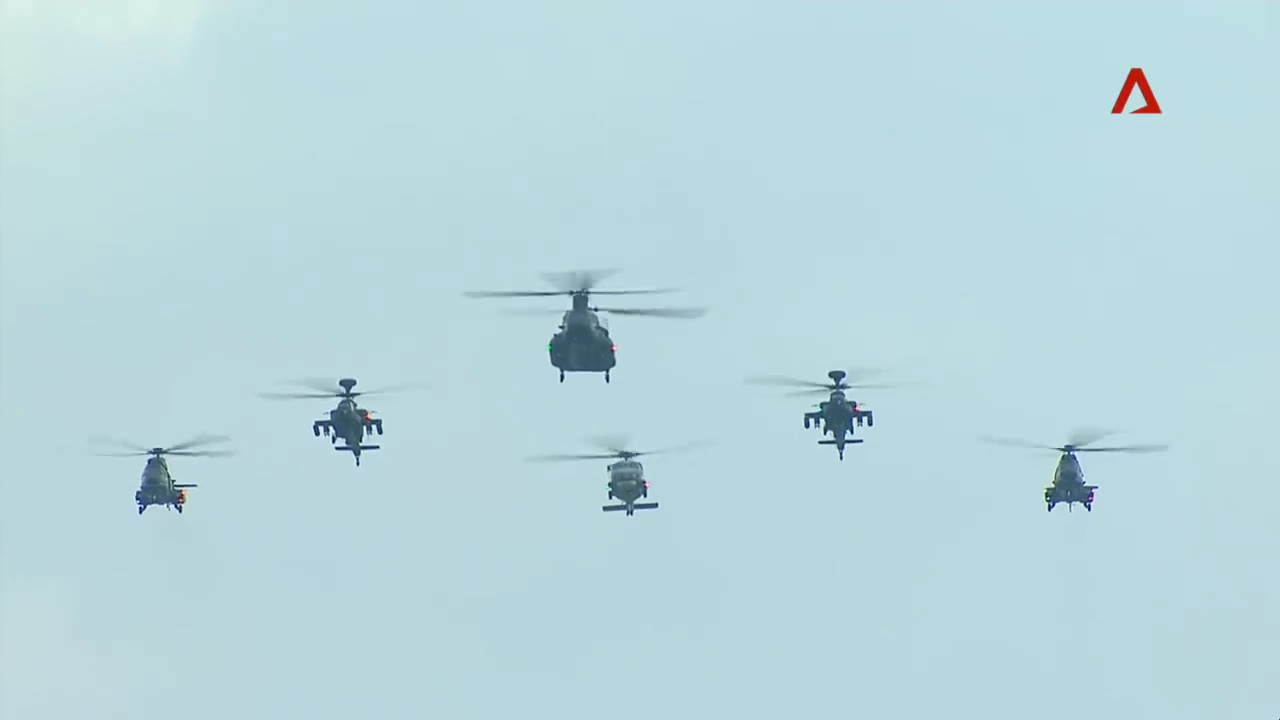ah64: (739, 363, 931, 464), (256, 374, 432, 466)
chinook: (456, 267, 712, 385)
cougar: (974, 423, 1170, 516), (78, 427, 239, 516)
seahawk: (519, 433, 720, 519)
